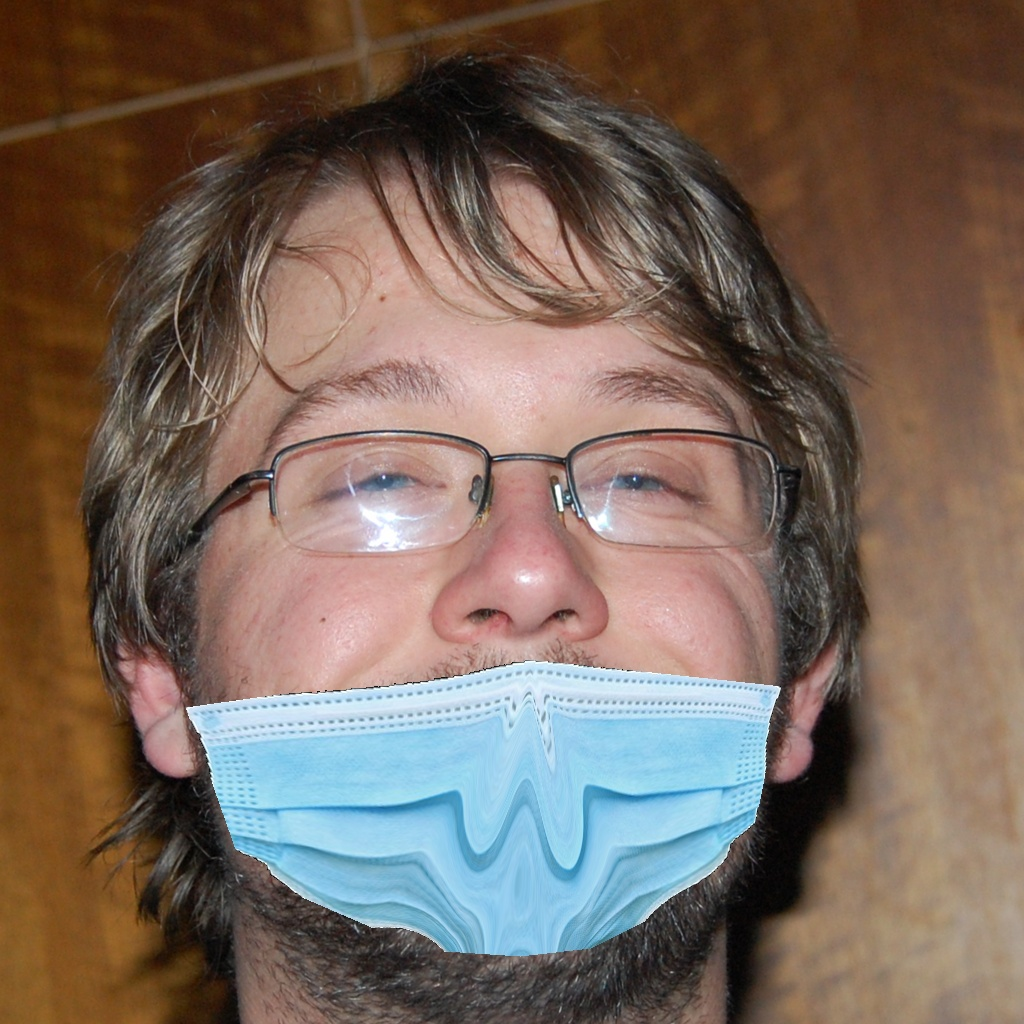mascarilla_mal_puesta: (144, 295, 822, 985)
